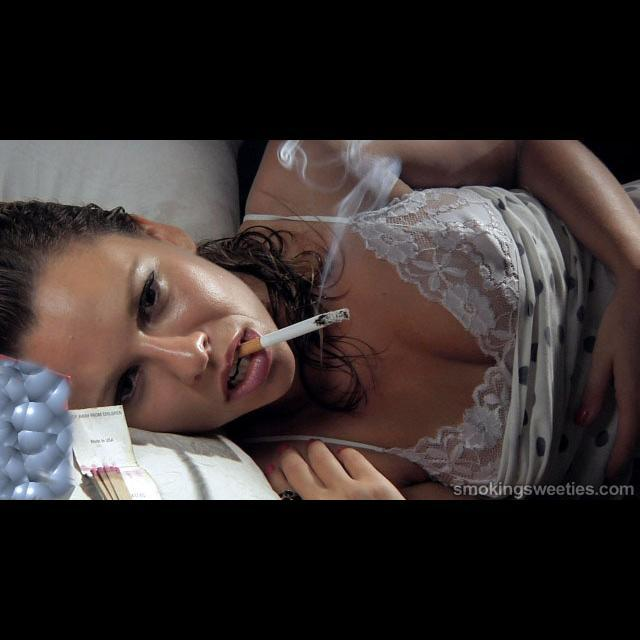rokok: (240, 303, 356, 359)
